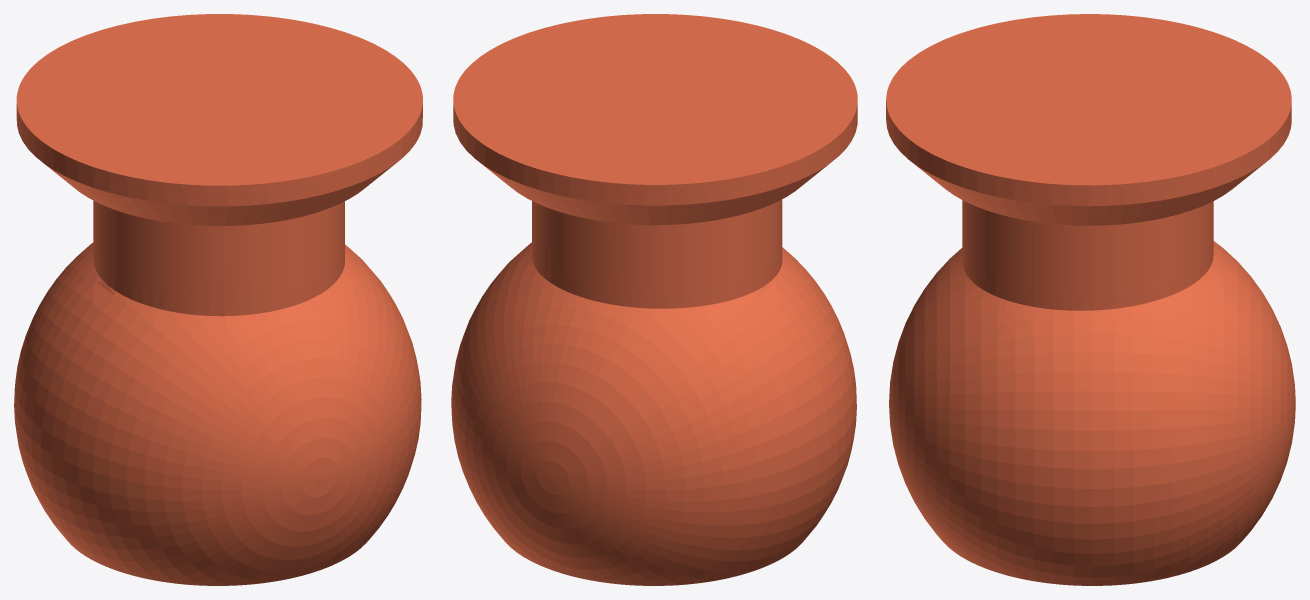
File: ball.glb
3 renders of one model, left to right at view 1: azimuth 30°, elevation 25°; view 2: azimuth 150°, elevation 25°; view 3: azimuth 270°, elevation 25°, orthographic.
Parts seen in each view (by area): view 1: joint04; view 2: joint04; view 3: joint04.
Boxes of the visible parts, x1=… form: joint04: x1=14, y1=14, x2=422, y2=585; joint04: x1=451, y1=14, x2=857, y2=585; joint04: x1=886, y1=14, x2=1295, y2=585.
Size of the model in its own units: 0.01 by 0.0114 by 0.0101.
